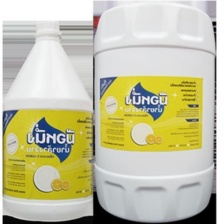cleaning_solution: (91, 1, 215, 224), (1, 18, 95, 222)
